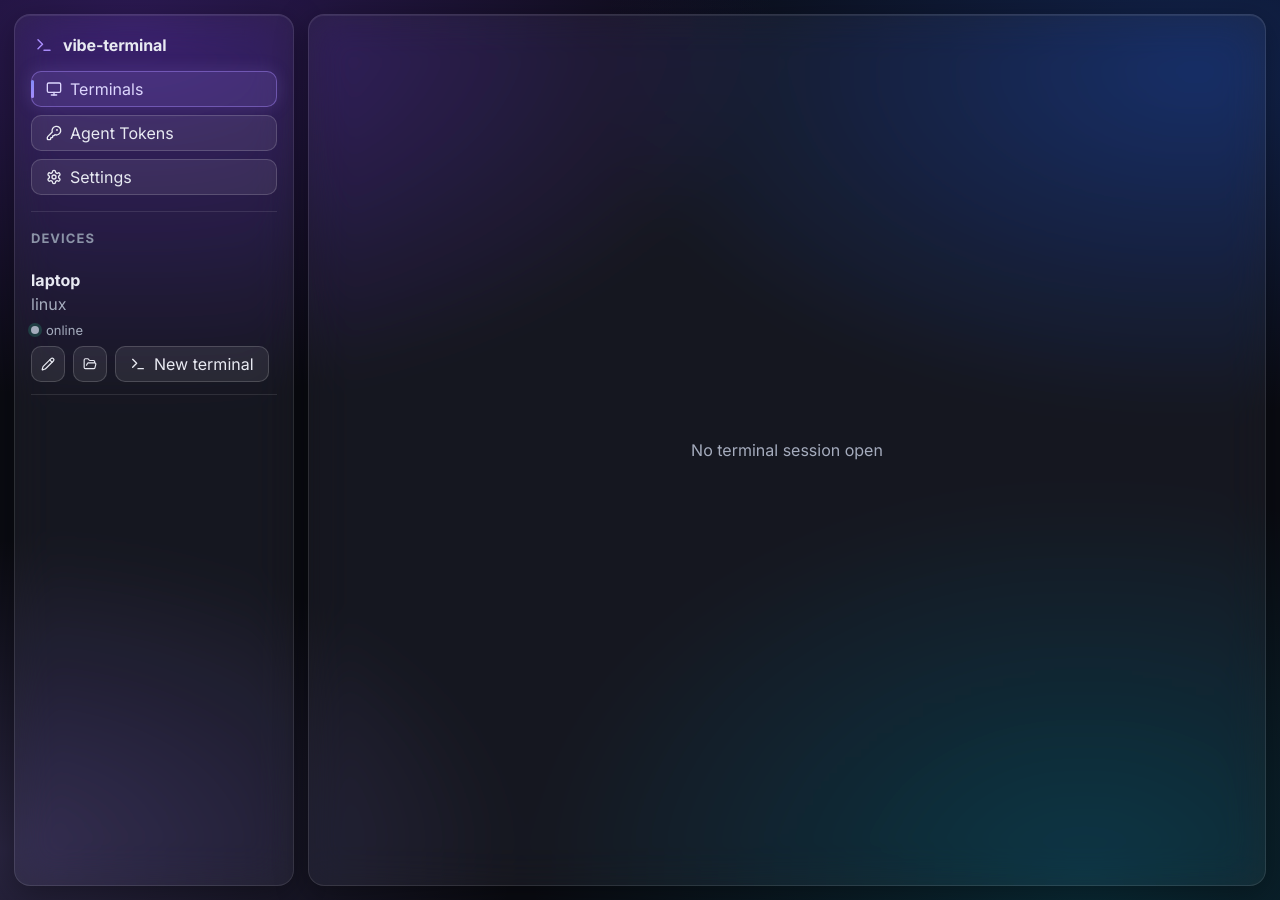
AppView › renames devices from the device list
Click the button named "rename laptop".
click(48, 364)  # box 31,346 -> 65,382
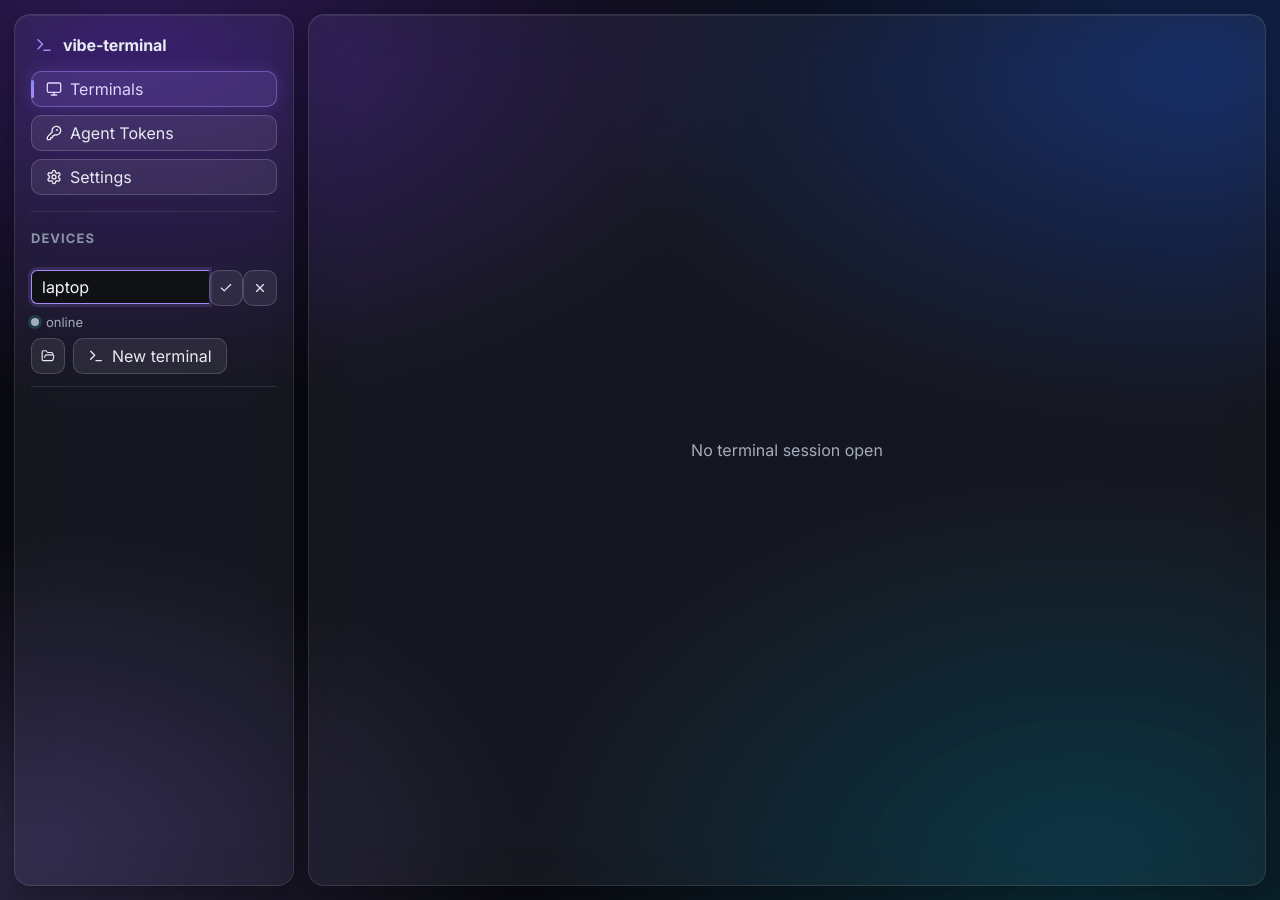
Replace the text in the field named "device name" with "office-laptop" at (120, 287), box 31,270 -> 209,304
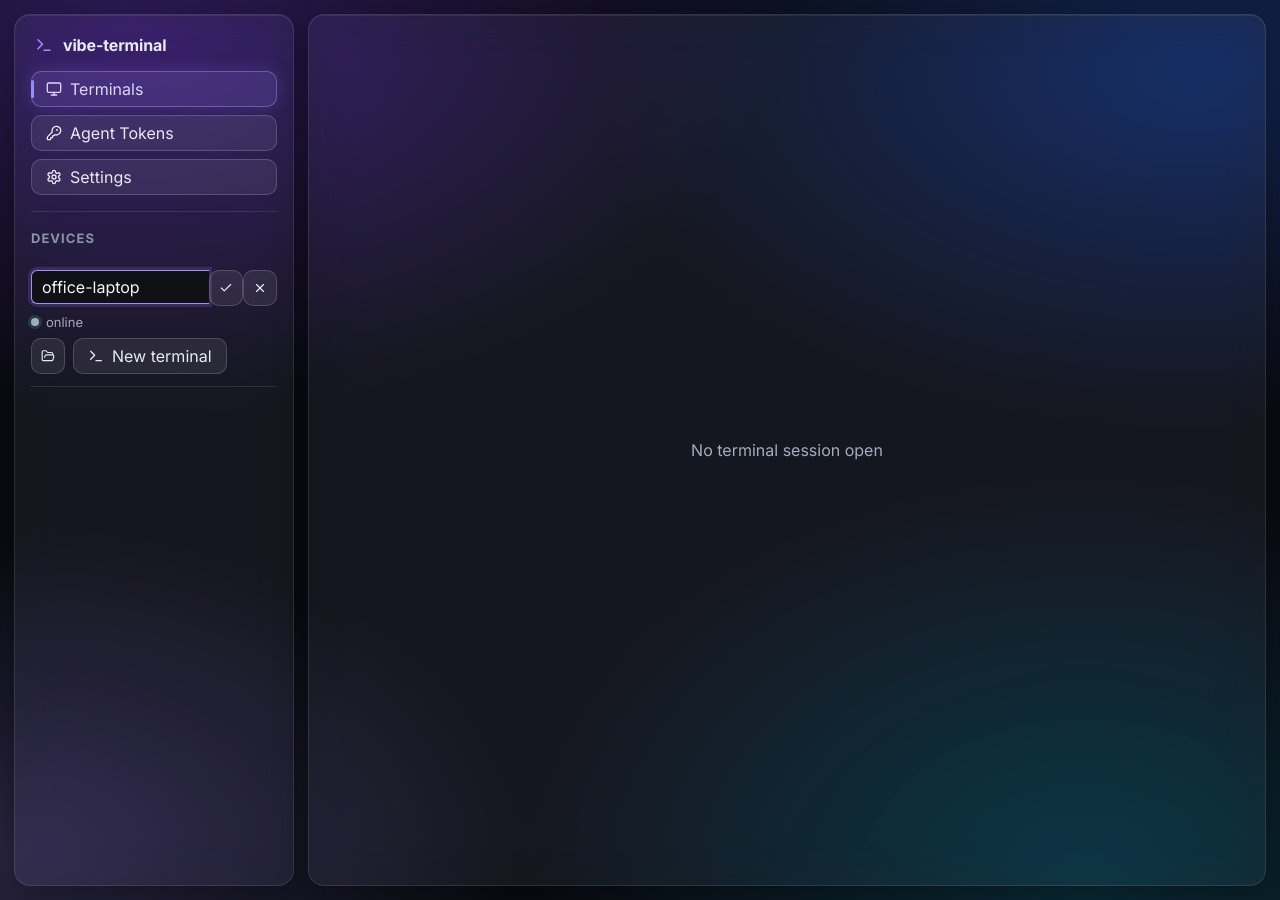
Click the button named "save device name".
click(226, 288)  # box 209,270 -> 243,306
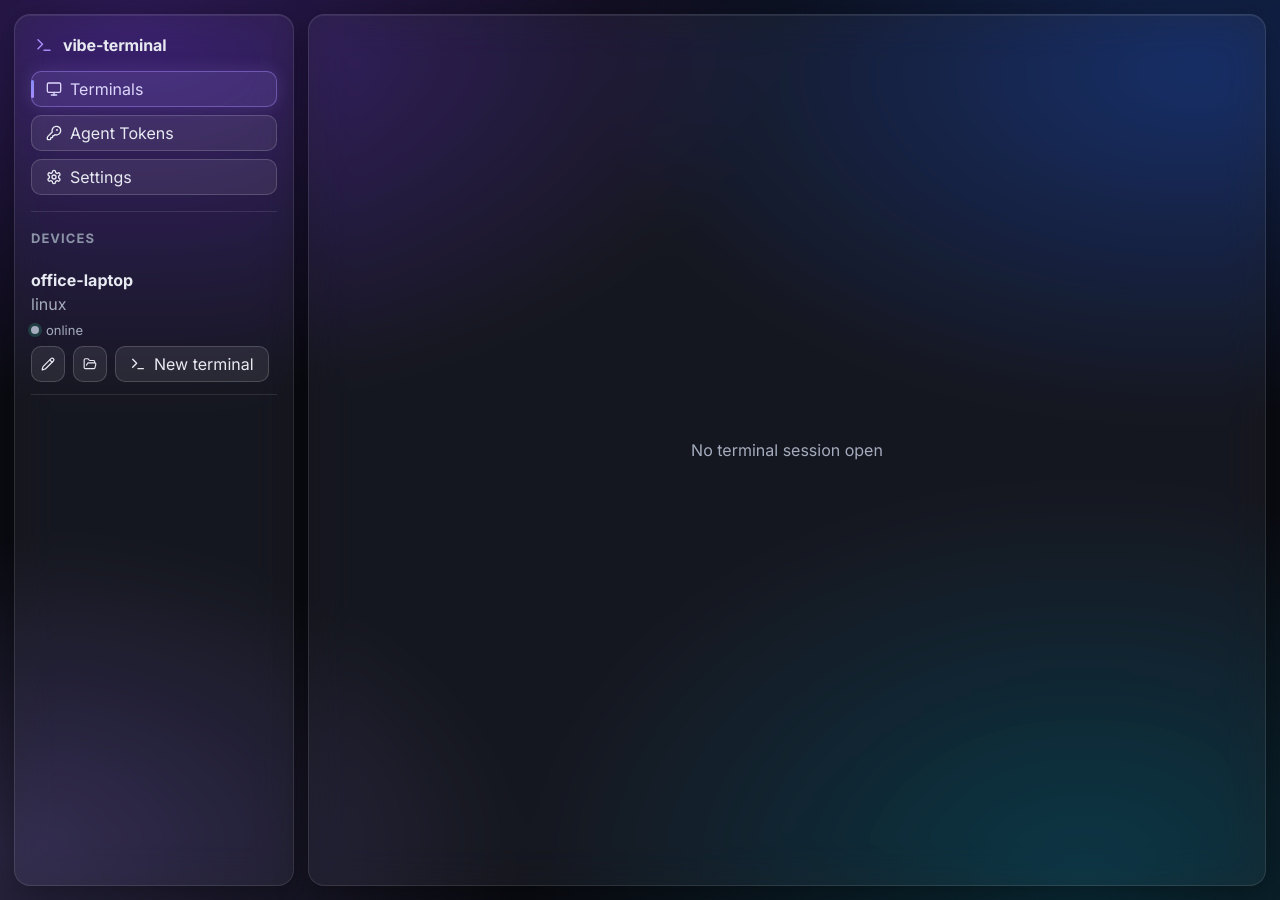
Now the text "office-laptop" is shown, box 31,270 -> 133,290
